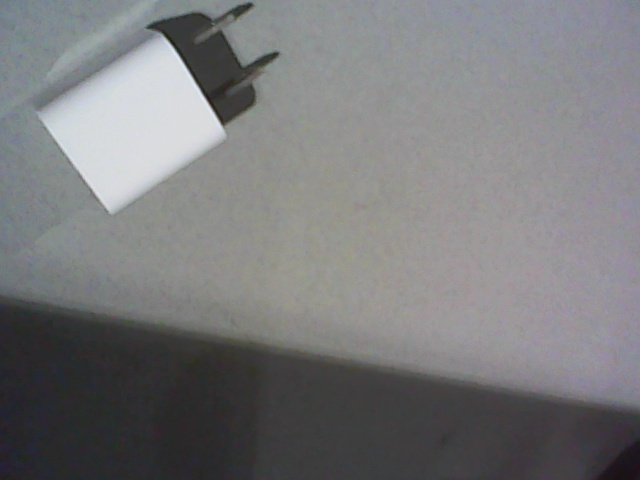charger: (35, 2, 281, 216)
